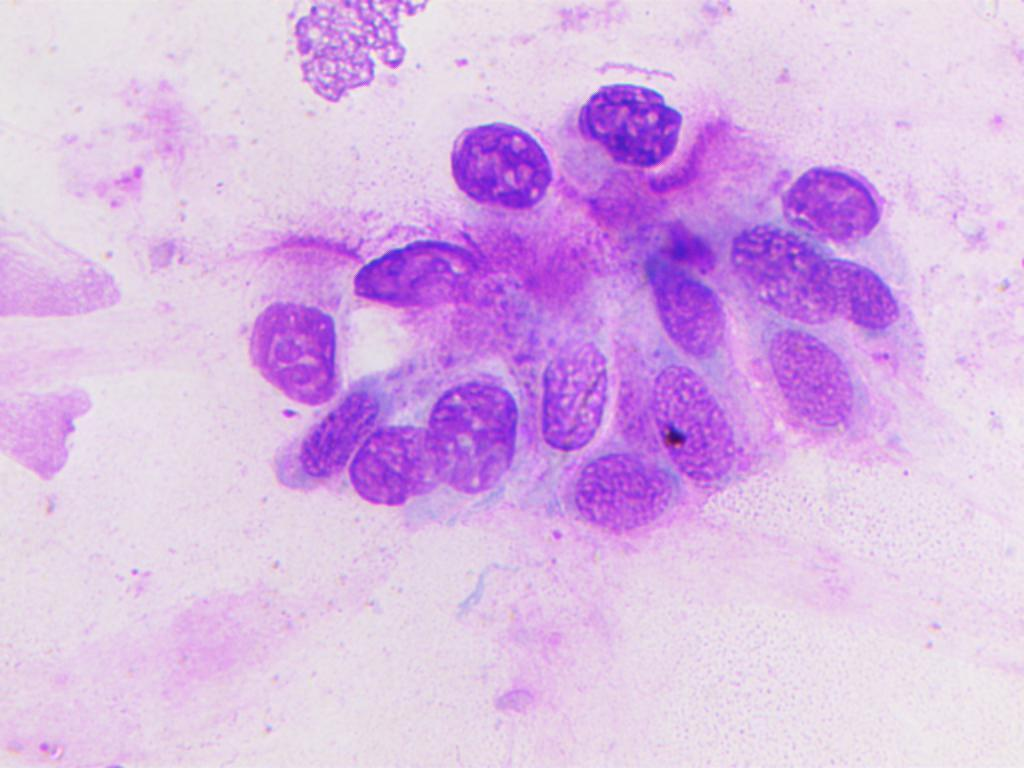artifact: (279, 0, 432, 112), (351, 222, 489, 312)
ciliated: (649, 118, 887, 247), (235, 227, 368, 407)
epithelial: (744, 324, 868, 449), (644, 345, 741, 498), (721, 209, 843, 324), (519, 331, 621, 456), (423, 371, 520, 494), (440, 119, 555, 220), (279, 384, 404, 476), (636, 245, 730, 357), (554, 454, 667, 546), (341, 416, 442, 504), (564, 81, 650, 170), (823, 255, 912, 332)
